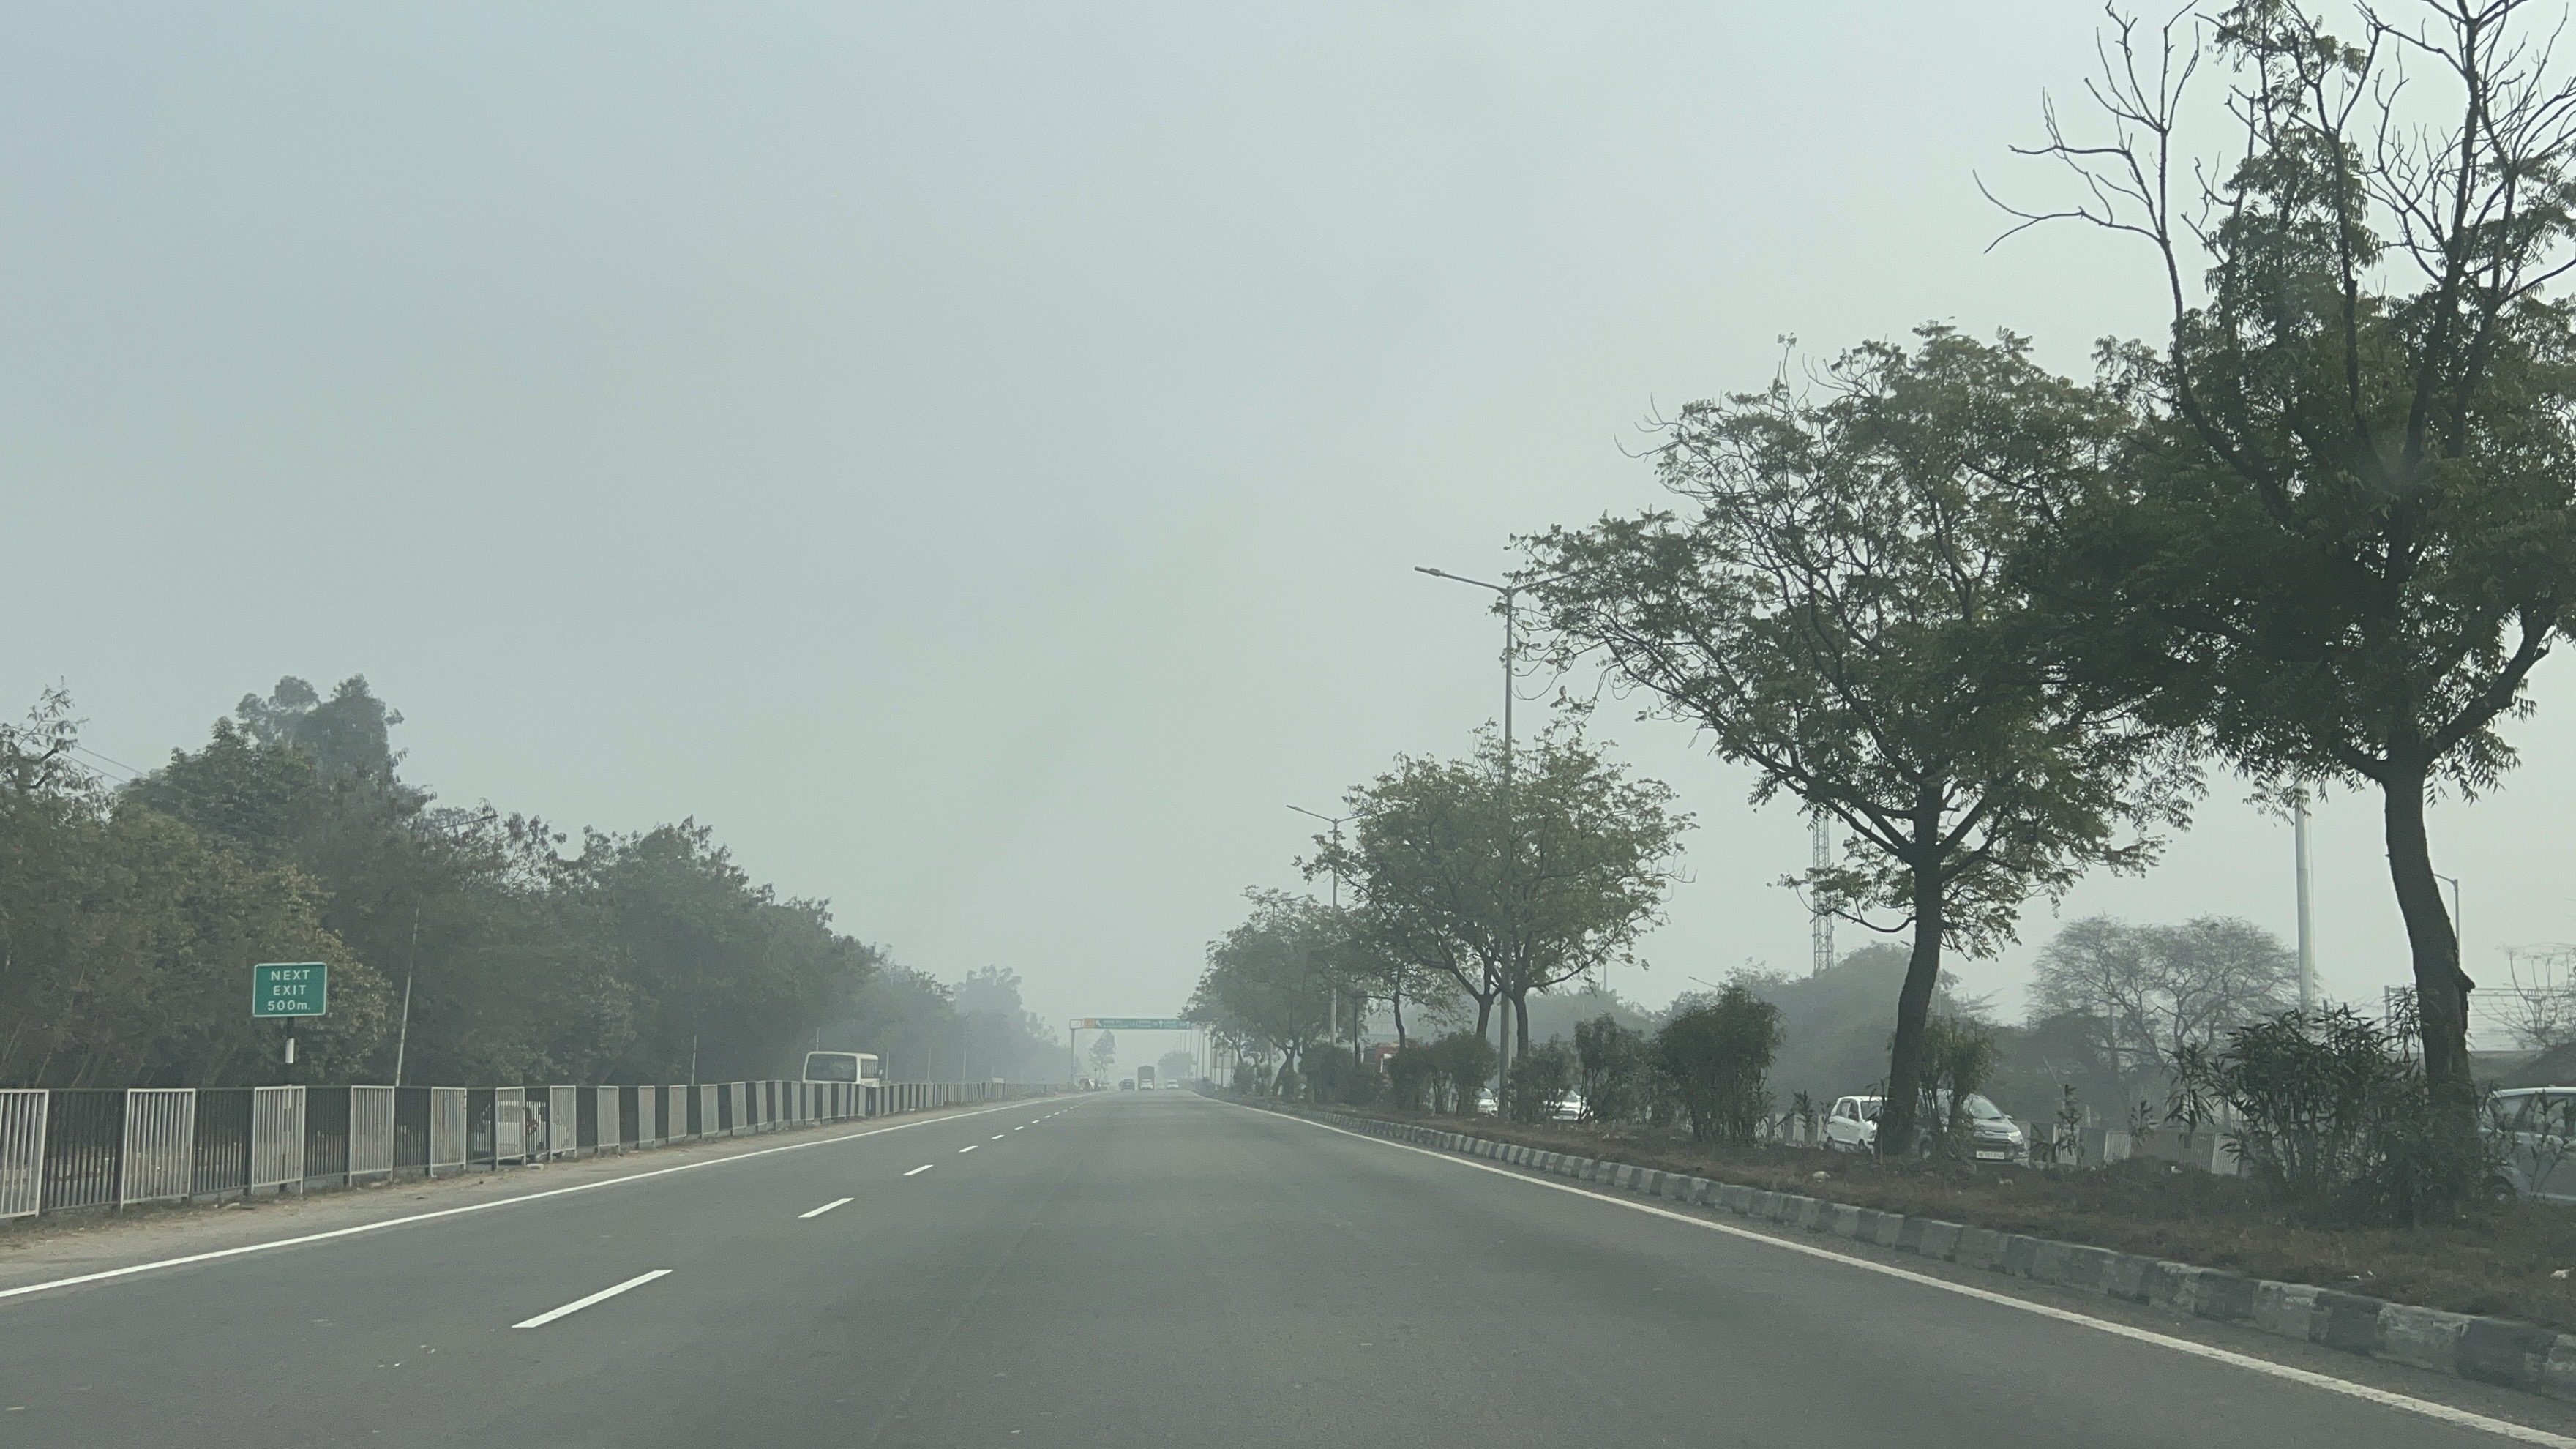Informatory: (241, 950, 338, 1024), (1063, 1010, 1231, 1037)
